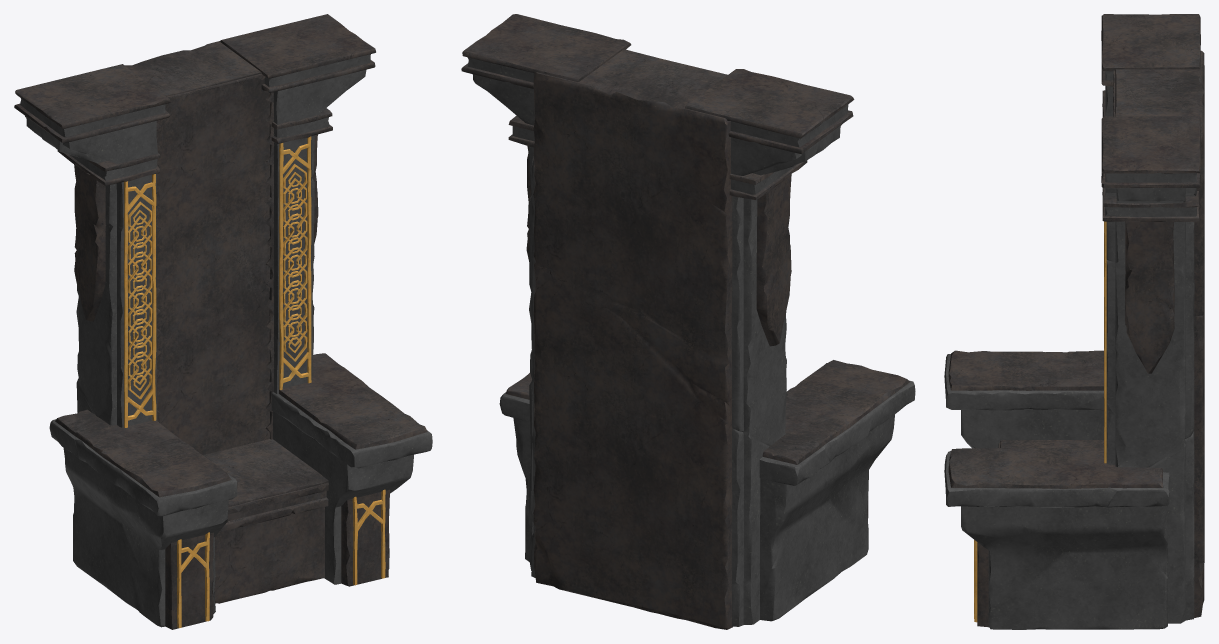
File: SM_Throne.fbx
The picture shows the model from 3 angles, left to right: view 1: azimuth 30°, elevation 25°; view 2: azimuth 150°, elevation 25°; view 3: azimuth 270°, elevation 25°; orthographic projection. The views are drawn at different scales.
Visible parts, largest first — view 1: SM_Throne_LOD0; view 2: SM_Throne_LOD0; view 3: SM_Throne_LOD0.
Part boxes in pixels (box(x1,y1,x2,y2)): SM_Throne_LOD0: box(14, 14, 432, 629); SM_Throne_LOD0: box(461, 14, 915, 629); SM_Throne_LOD0: box(944, 14, 1204, 629).
Bounding box in the file's own units: 294 × 207 × 424.
Materials: 4 (4 with a texture image).
